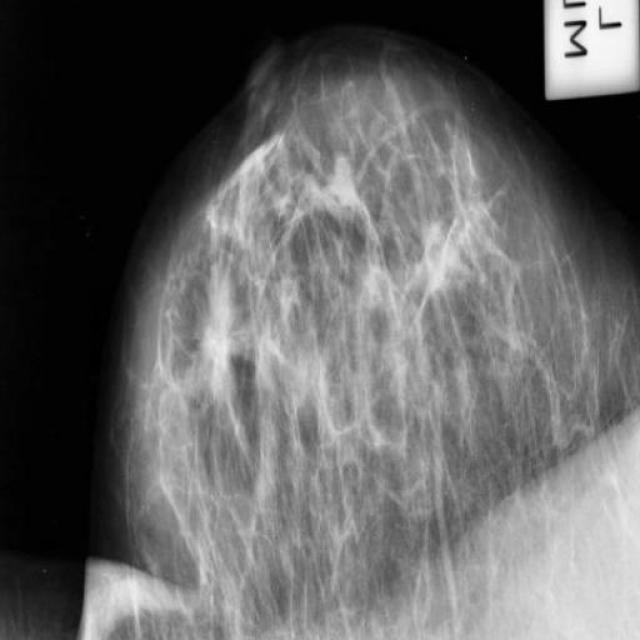cancer: (185, 264, 246, 404)
